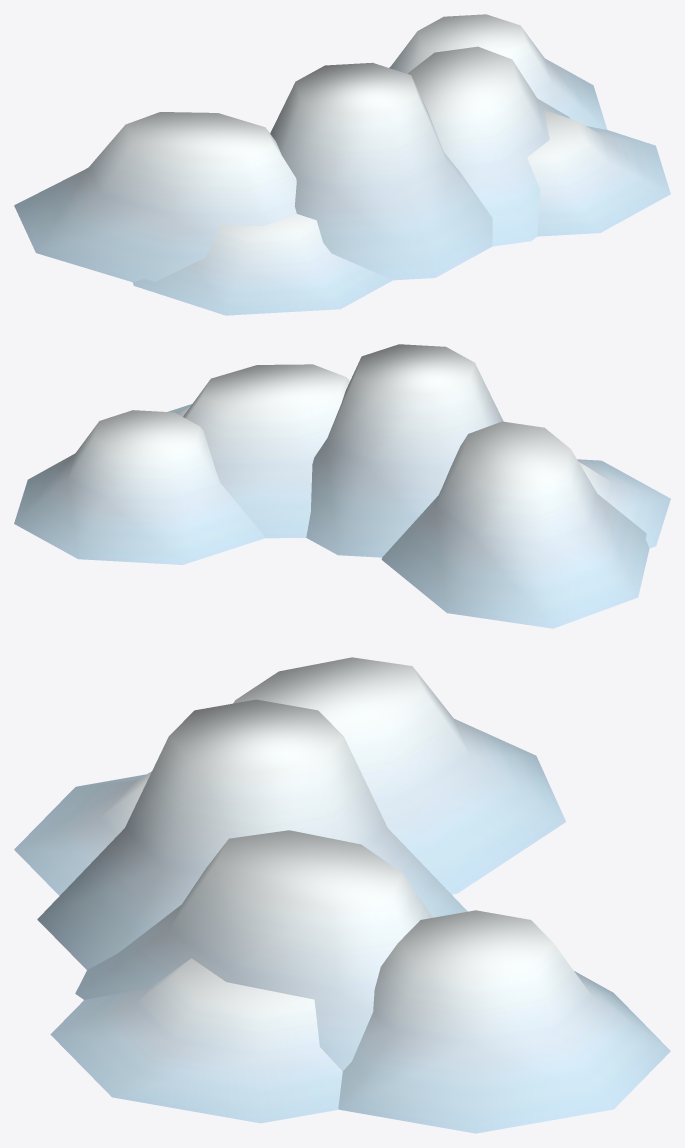
Rendered from k-holiday-snow-bunker.glb.
3 renders of one model, top to bottom at view 1: azimuth 30°, elevation 25°; view 2: azimuth 150°, elevation 25°; view 3: azimuth 270°, elevation 25°, orthographic. The views are drawn at different scales.
Parts seen in each view (by area): view 1: snow-bunker; view 2: snow-bunker; view 3: snow-bunker.
Boxes of the visible parts, x1,y1,x2,y2 form: snow-bunker: [14, 14, 670, 315]; snow-bunker: [14, 344, 670, 628]; snow-bunker: [14, 657, 670, 1133].
Bounding box in the file's own units: 1.94 × 0.4137 × 1.35.
Materials: 1 (1 with a texture image).
